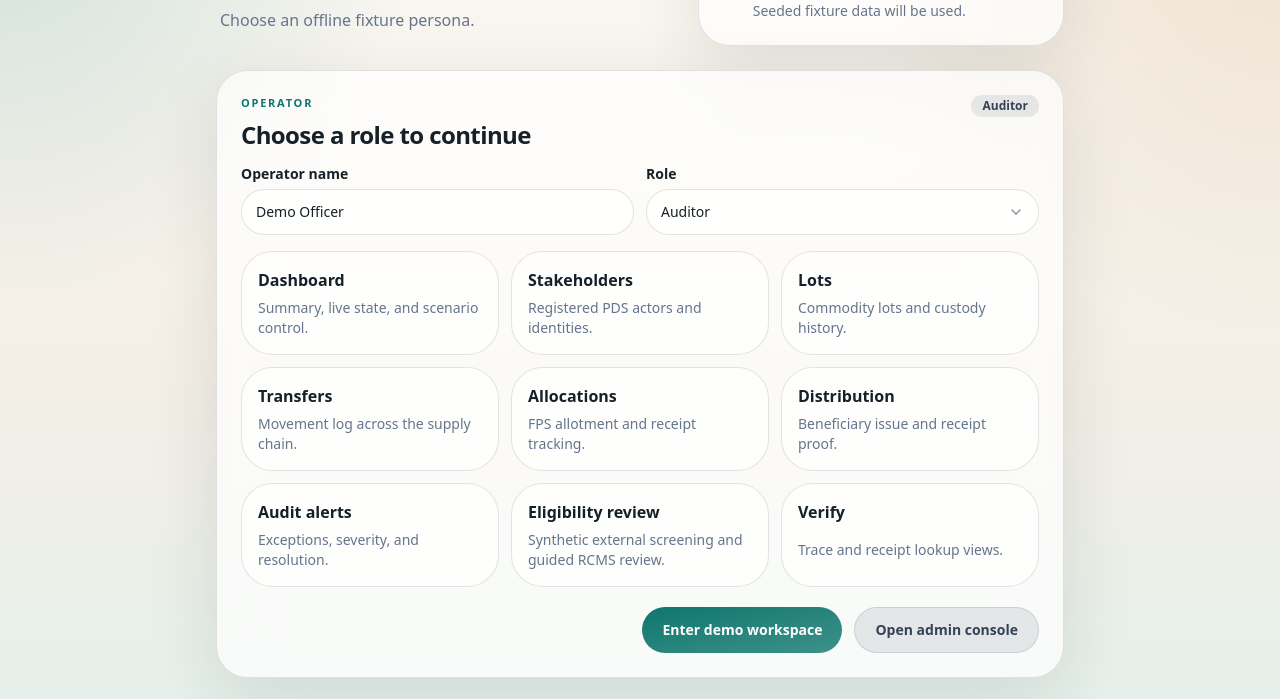
Test: app shell › navigates between routed pages from the sidebar
(page scrolled)
Click the button "Enter demo workspace" at [742, 630], box x1=642 y1=607 x2=842 y2=653
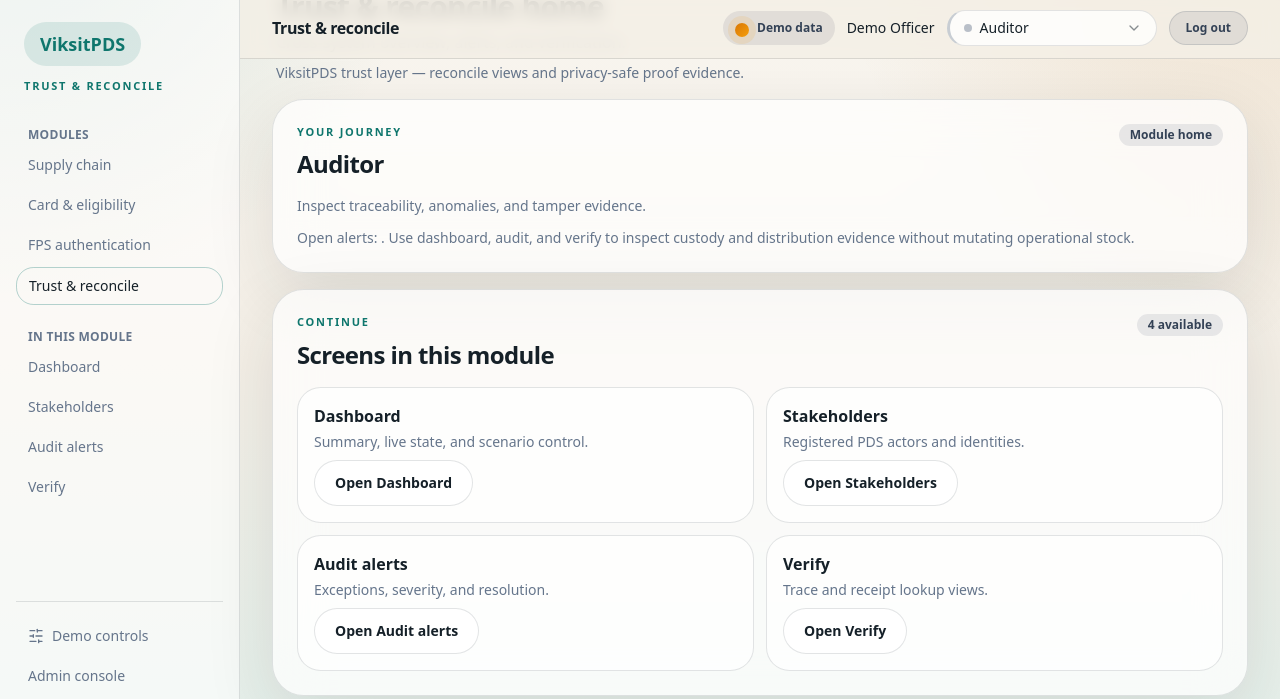
Click the link "Supply chain" at [70, 164], box x1=28 y1=154 x2=112 y2=174
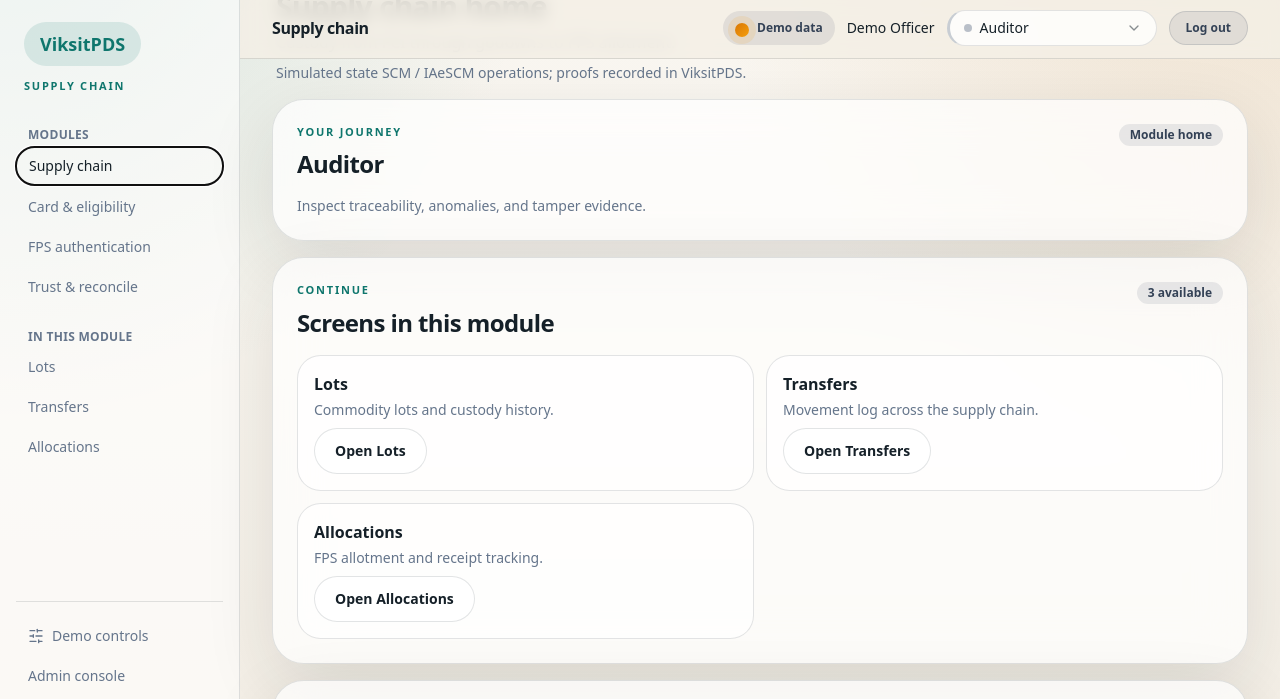
Click the link "Transfers" at [58, 406], box x1=28 y1=396 x2=89 y2=416
(page scrolled)
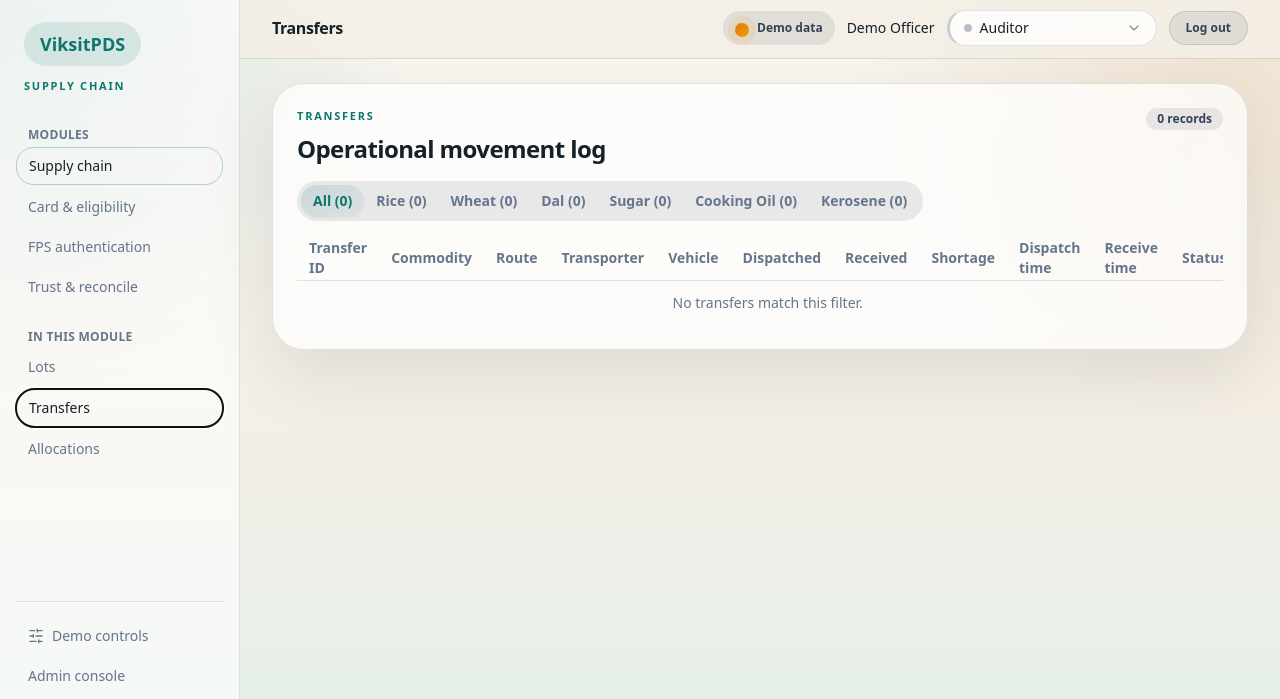
Result: the heading "Operational movement log" is shown at x1=297 y1=132 x2=606 y2=164
Click the link "Trust & reconcile" at [83, 286], box x1=28 y1=276 x2=138 y2=296
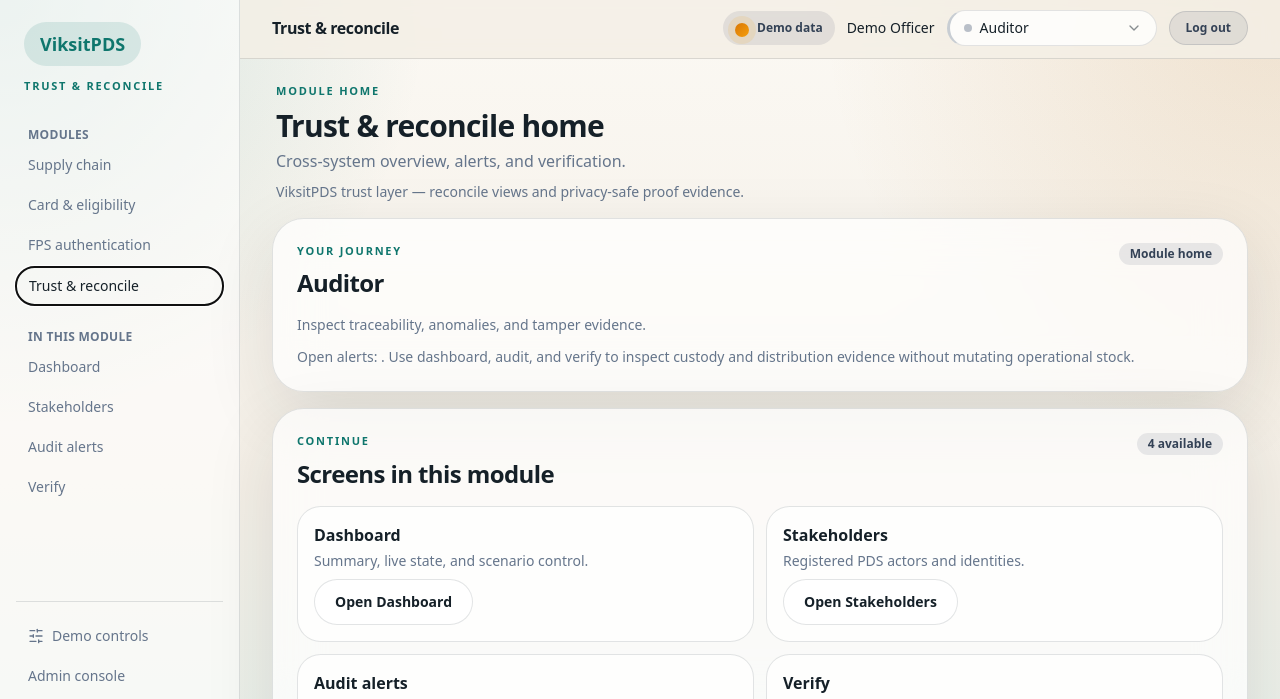
Click the link "Stakeholders" at [71, 406], box x1=28 y1=396 x2=114 y2=416
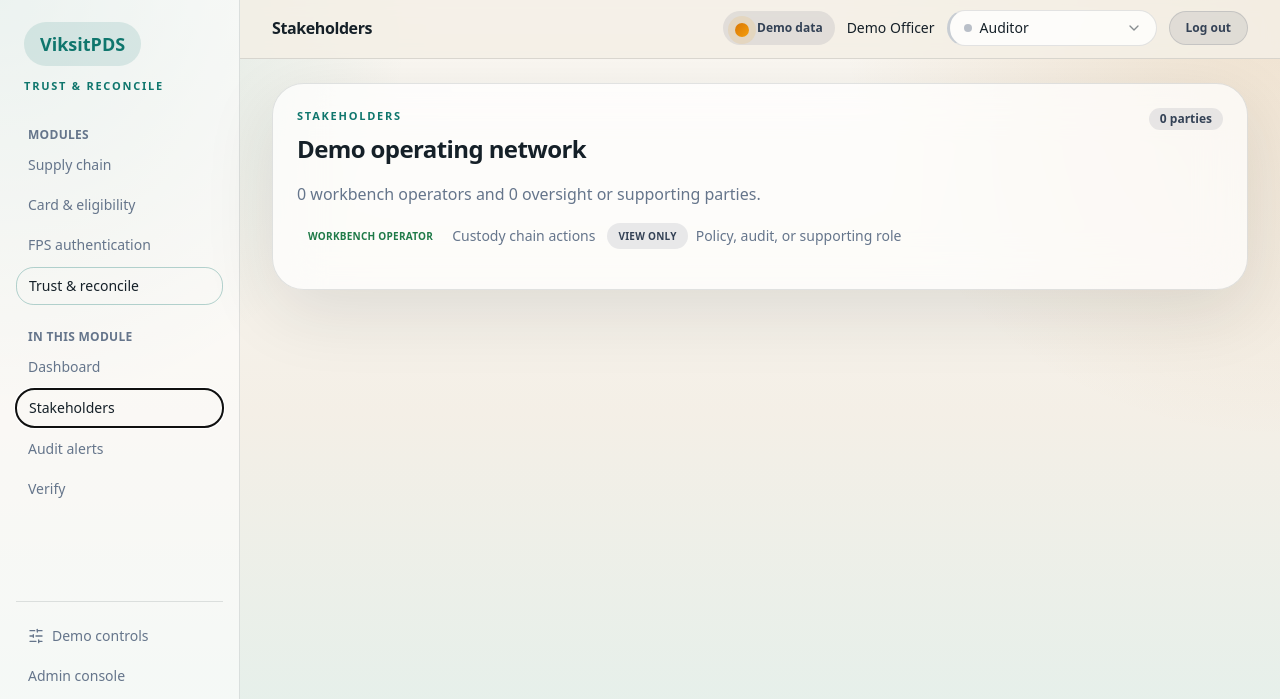
Result: the heading "Demo operating network" is shown at x1=297 y1=132 x2=586 y2=164
